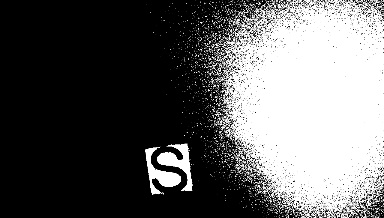S: (143, 146, 192, 193)
